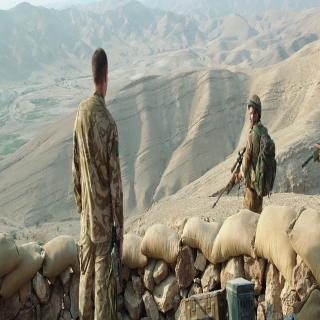gun: (213, 142, 249, 202)
